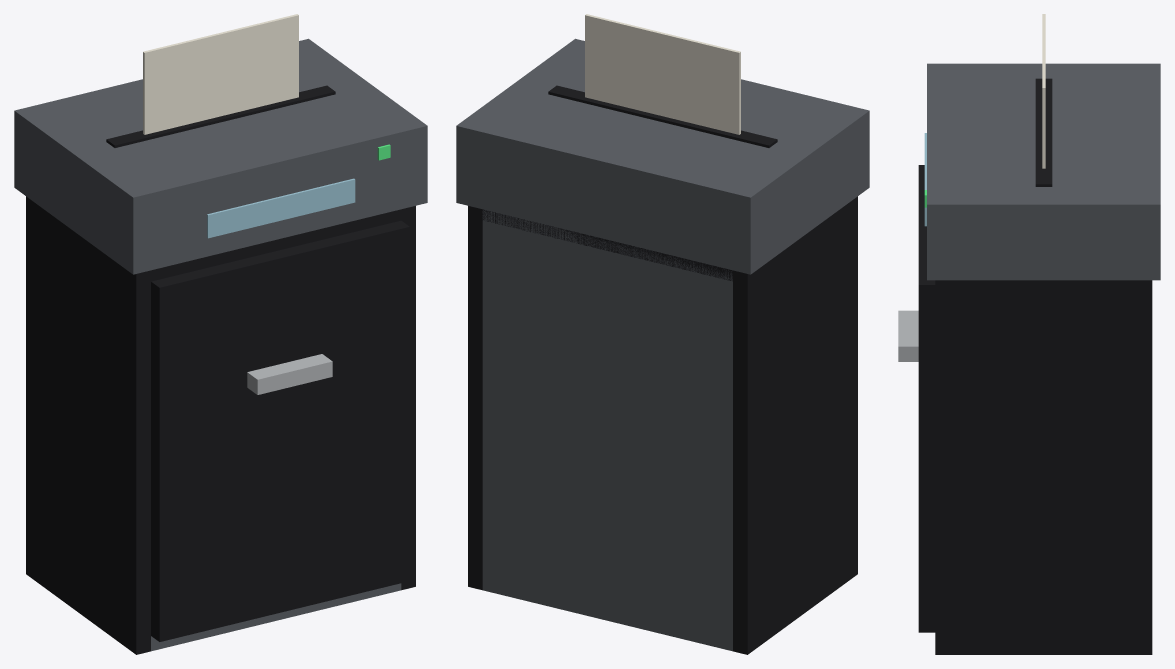
The model's file is GO_Shredder_01.glb.
The picture shows the model from 3 angles, left to right: view 1: azimuth 30°, elevation 25°; view 2: azimuth 150°, elevation 25°; view 3: azimuth 270°, elevation 25°; orthographic projection.
Parts seen in each view (by area): view 1: GO_Shredder_01, Bin; view 2: GO_Shredder_01; view 3: GO_Shredder_01, Bin.
Part boxes in pixels (x1,y1,x2,y2): GO_Shredder_01: (14,14,427,654); Bin: (151,220,409,641); GO_Shredder_01: (456,14,869,654); GO_Shredder_01: (924,14,1160,654); Bin: (898,165,935,632).
Bounding box in the file's own units: 0.4 × 0.71 × 0.3145.
1 material, 1 textured.
